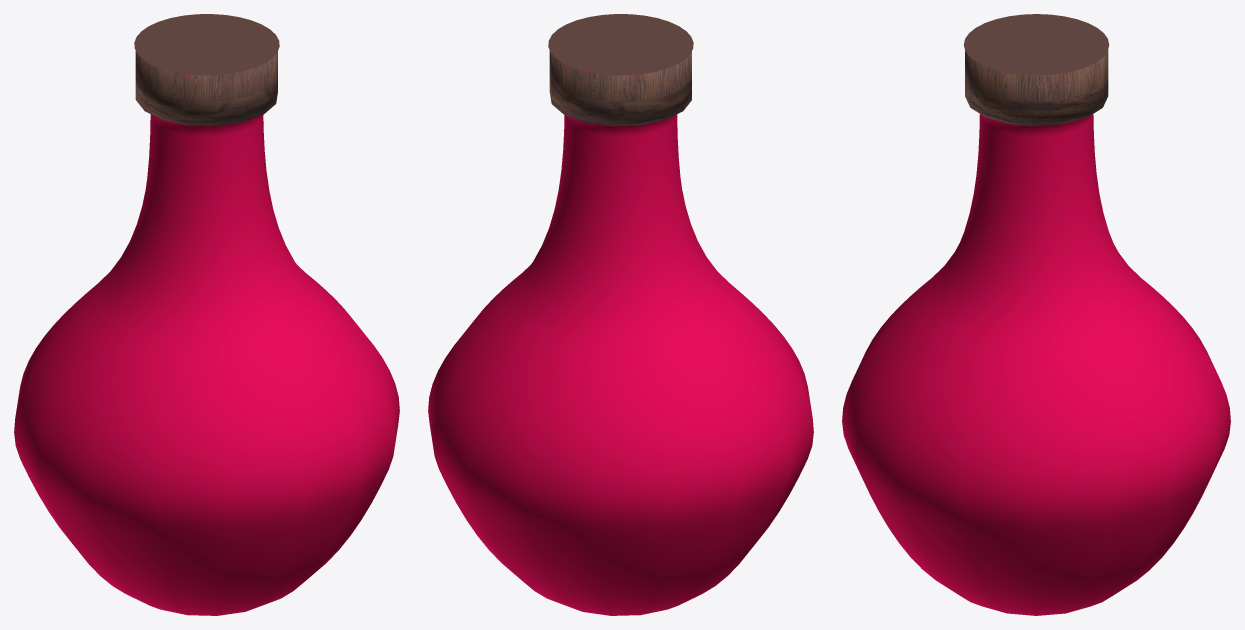
File: POTION.fbx
3 renders of one model, left to right at view 1: azimuth 30°, elevation 25°; view 2: azimuth 150°, elevation 25°; view 3: azimuth 270°, elevation 25°, orthographic.
Parts seen in each view (by area): view 1: BézierCurve, Circle; view 2: BézierCurve, Circle; view 3: BézierCurve, Circle.
Boxes of the visible parts, bbox=[...] form: BézierCurve: bbox=[14, 51, 399, 615]; Circle: bbox=[134, 14, 279, 75]; BézierCurve: bbox=[428, 51, 813, 615]; Circle: bbox=[548, 14, 693, 75]; BézierCurve: bbox=[842, 50, 1230, 615]; Circle: bbox=[963, 14, 1109, 75].
Bounding box in the file's own units: 102 × 160 × 102.
2 materials, 1 textured.
